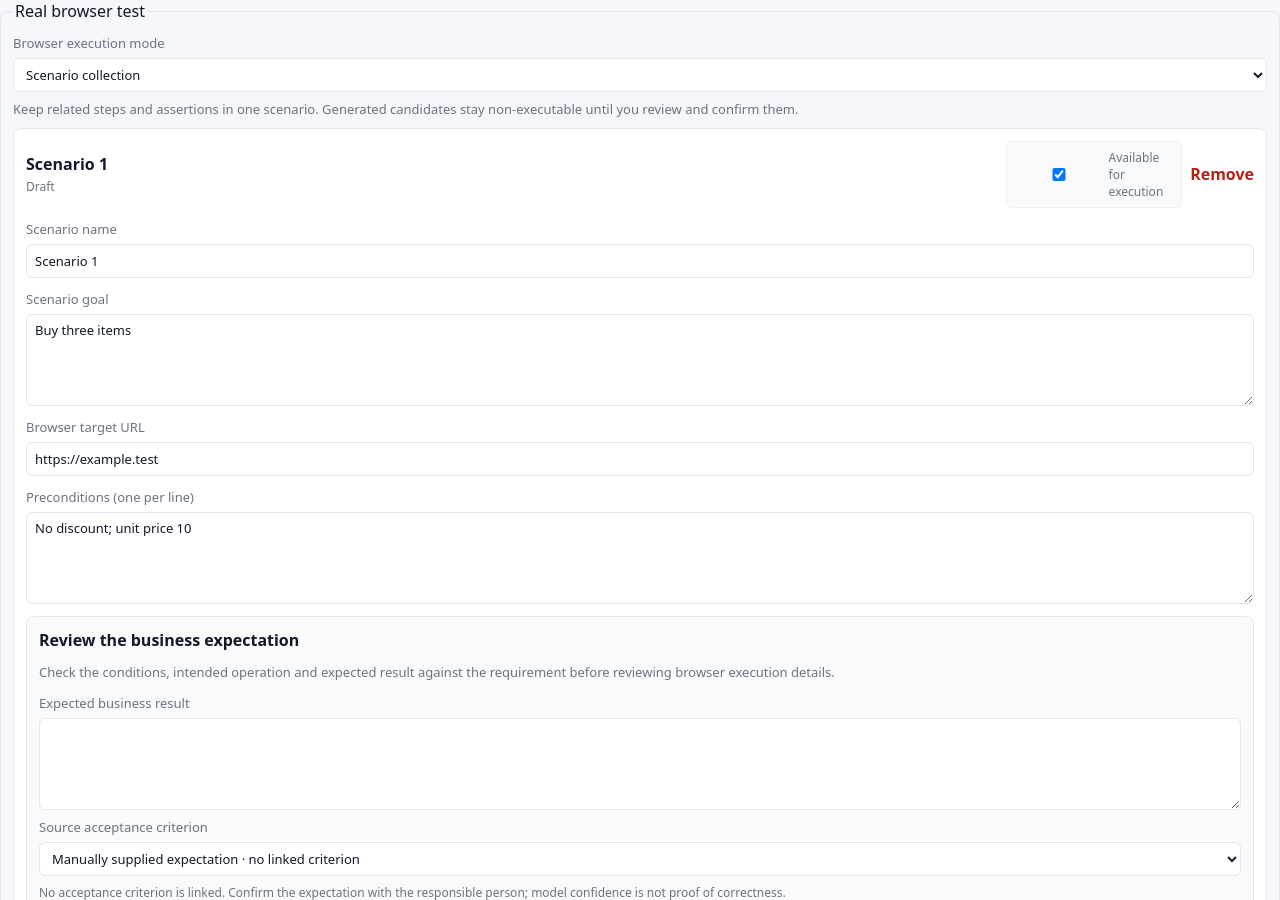
Scenario: business expectation review › offers source text as an empty business draft without copying it into a page assertion
The width and height of the screenshot is (1280, 900).
Select "Three items at 10 each cost 30" in the dropdown named "Source acceptance criterion 1" at coordinates (640, 859), box [39, 842, 1241, 876]
(page scrolled)
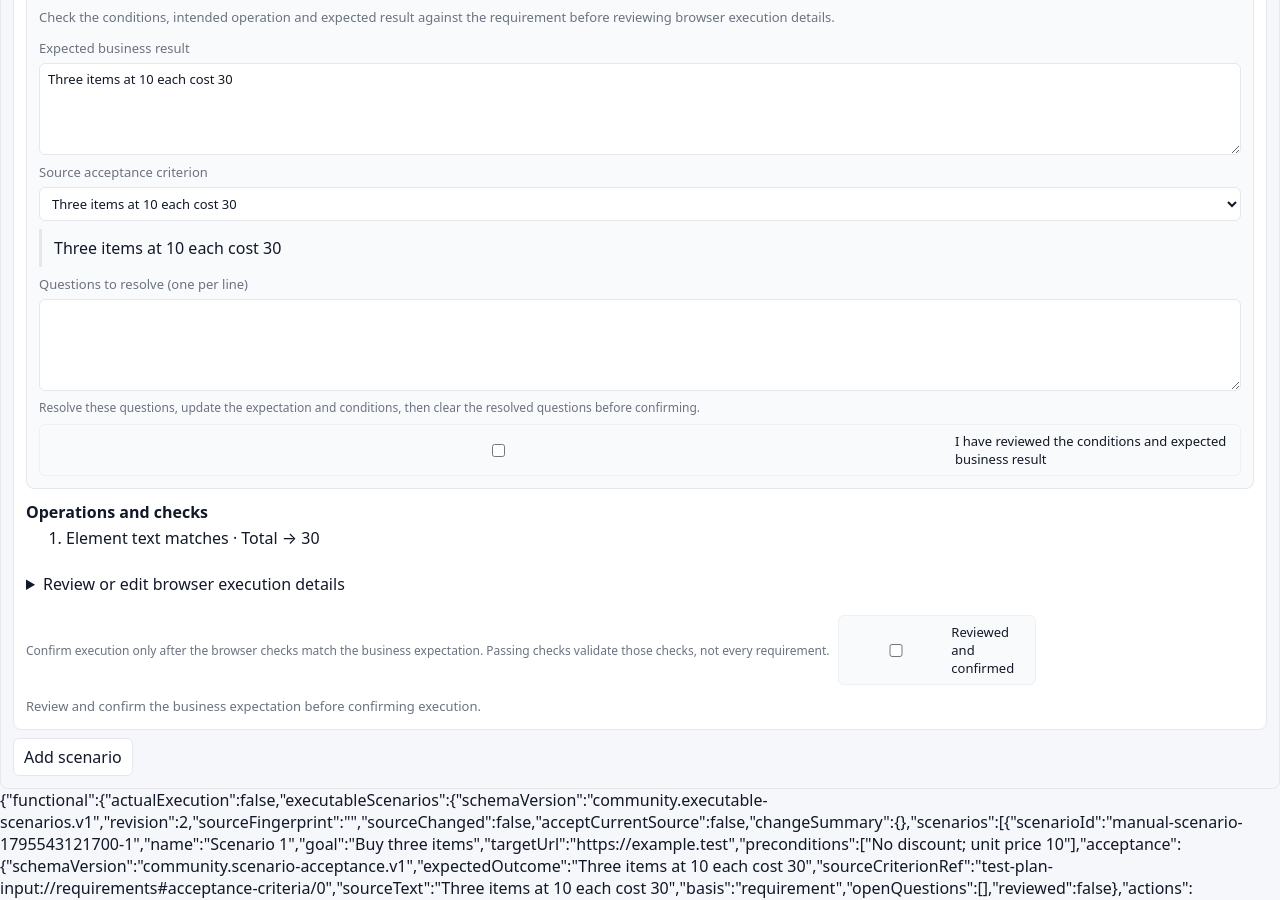
Expected: the checkbox named "I have reviewed the conditions and expected business result 1" is not checked, [53, 444, 944, 456]
Result: the text box named "Expected business result 1" holds "Three items at 10 each cost 30" at [39, 63, 1241, 155]
